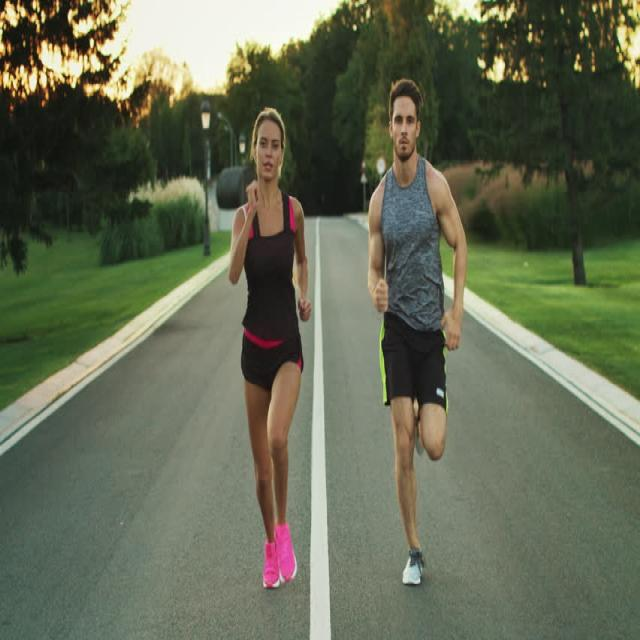running: (366, 77, 469, 591), (226, 104, 314, 591)
